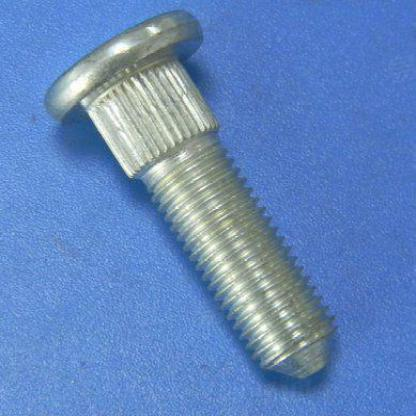FOD: (40, 4, 341, 384)
